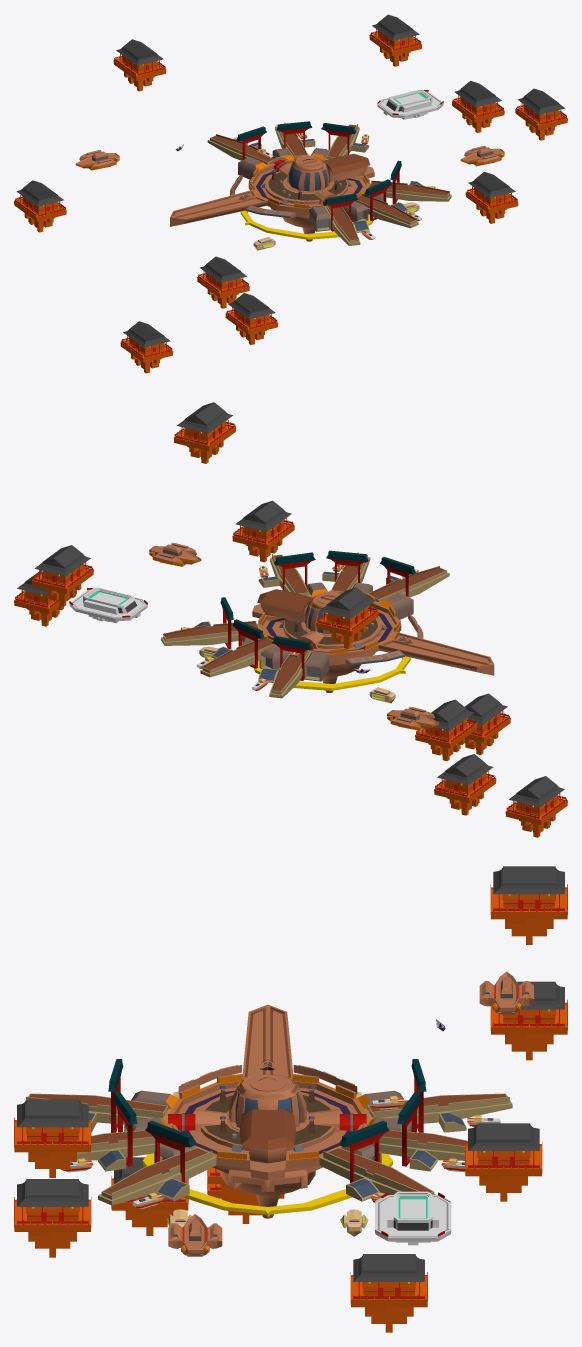
File: mofang.gltf
3 views of the same model, one above another, from view 1: azimuth 30°, elevation 25°; view 2: azimuth 150°, elevation 25°; view 3: azimuth 270°, elevation 25° (orthographic). The views are drawn at different scales.
Parts seen in each view (by area): view 1: 圆环.150; view 2: 圆环.150; view 3: 圆环.150.
Boxes of the visible parts, x1,y1,x2,y2 form: 圆环.150: (14, 14, 567, 373); 圆环.150: (14, 402, 567, 837); 圆环.150: (14, 866, 567, 1332).
Bounding box in the file's own units: 40.11 × 22.23 × 26.61.
